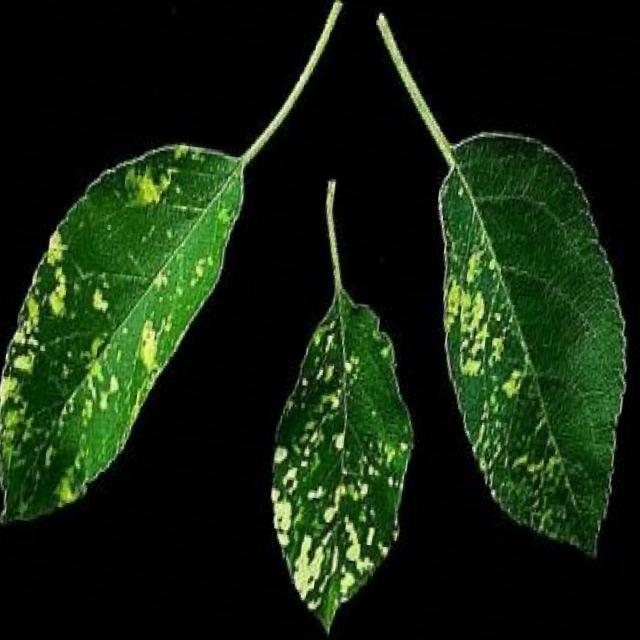Mosaic Virus: (0, 82, 239, 547), (403, 132, 640, 549), (249, 282, 426, 632)
